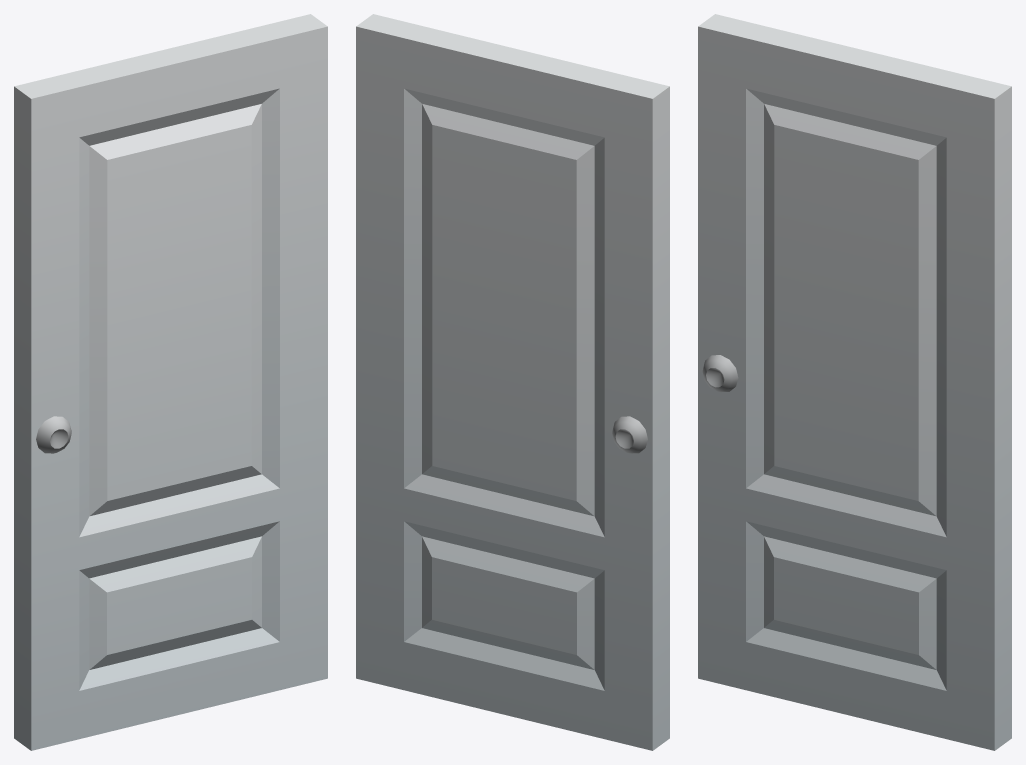
The model's file is Door_White_02.glb.
The picture shows the model from 3 angles, left to right: view 1: azimuth 30°, elevation 25°; view 2: azimuth 150°, elevation 25°; view 3: azimuth 330°, elevation 25°; orthographic projection.
Parts seen in each view (by area): view 1: Door_White_02; view 2: Door_White_02; view 3: Door_White_02.
Part boxes in pixels (x1,y1,x2,y2): Door_White_02: (14,14,327,750); Door_White_02: (356,14,669,750); Door_White_02: (698,14,1011,750).
Size of the model in its own units: 1 by 2.1 by 0.1634.
1 material, 1 textured.
